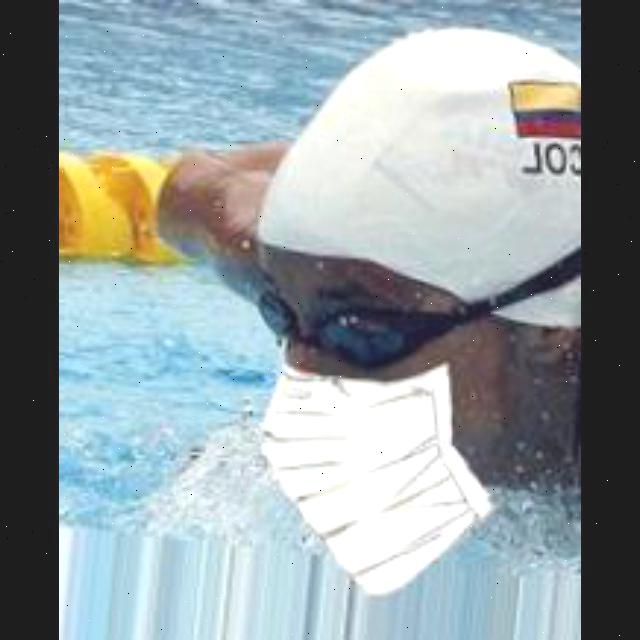suspicion: (251, 150, 547, 516)
